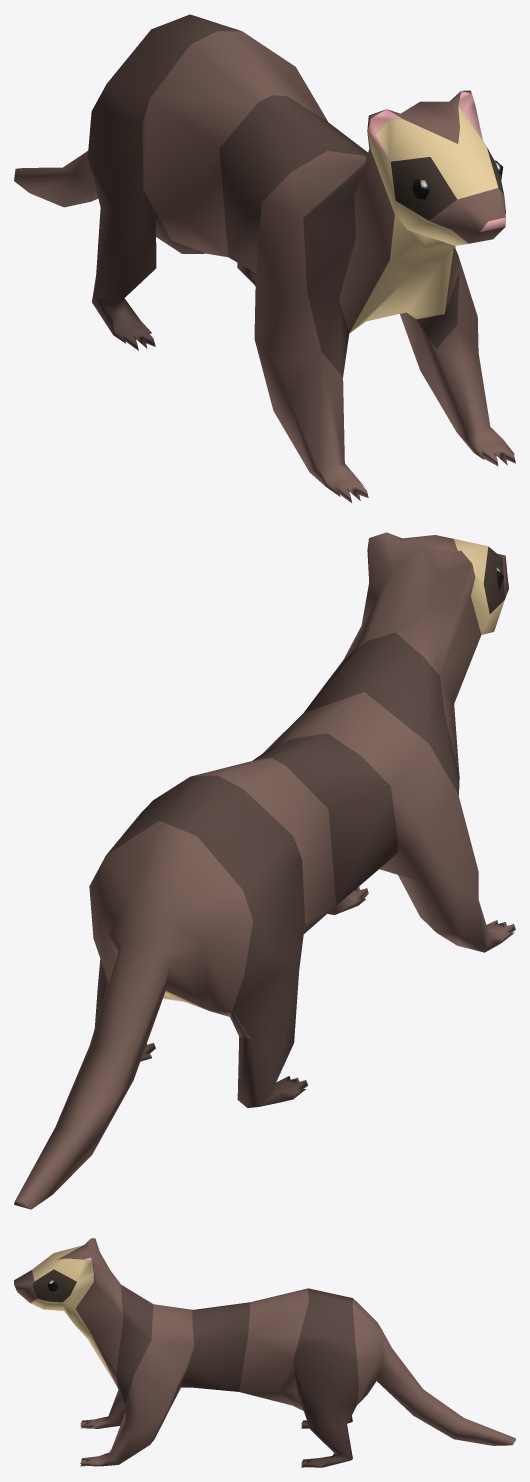
The model's file is c3609816-3cee-403b-81b2-ff1920c61e15.glb.
3 views of the same model, one above another, from view 1: azimuth 30°, elevation 25°; view 2: azimuth 150°, elevation 25°; view 3: azimuth 270°, elevation 25° (orthographic). The views are drawn at different scales.
Visible parts, largest first — view 1: Ferret; view 2: Ferret; view 3: Ferret.
Boxes of the visible parts, x1,y1,x2,y2 form: Ferret: (14, 14, 515, 502); Ferret: (14, 532, 515, 1209); Ferret: (14, 1238, 515, 1467).
Size of what is drawn, in the model's own units: 0.2928 by 0.5382 by 1.23.
1 material, 1 textured.
